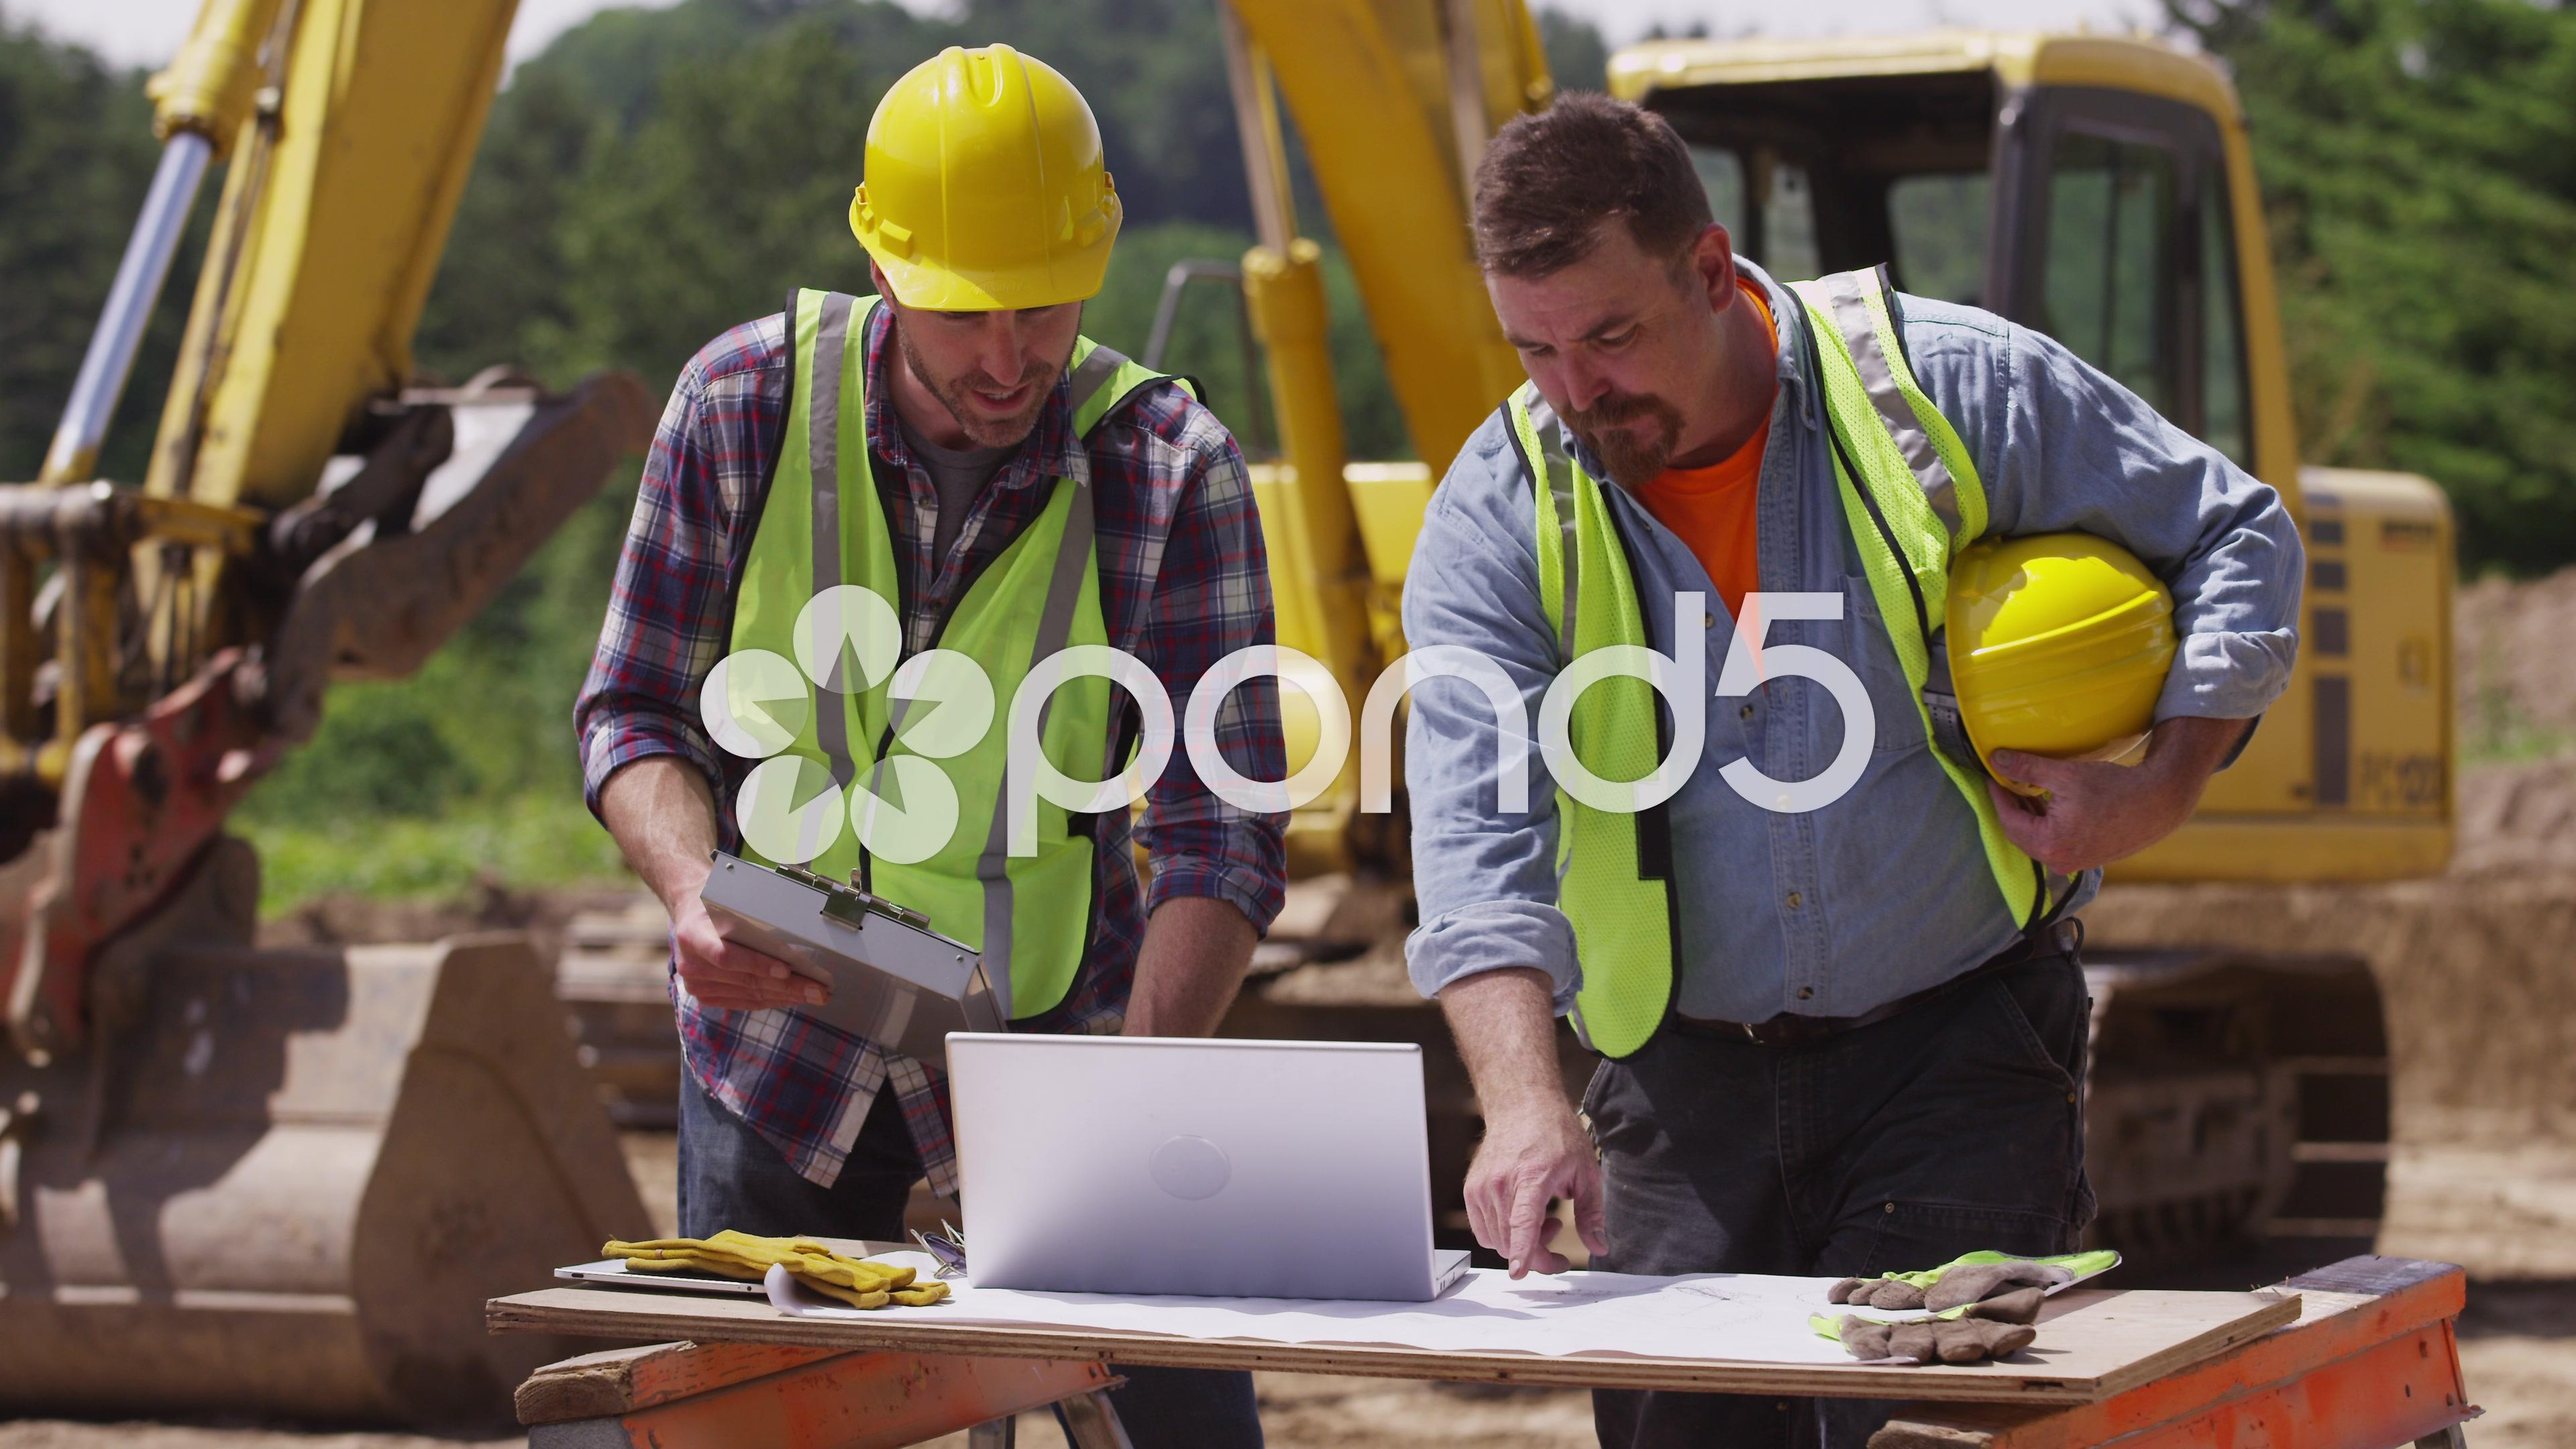hat: (789, 4, 1208, 426)
no hat: (1366, 48, 1905, 511)
vest: (1407, 242, 2137, 1242), (617, 255, 1269, 1155)
